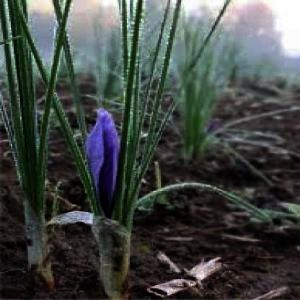Saffron: (83, 108, 125, 243)
